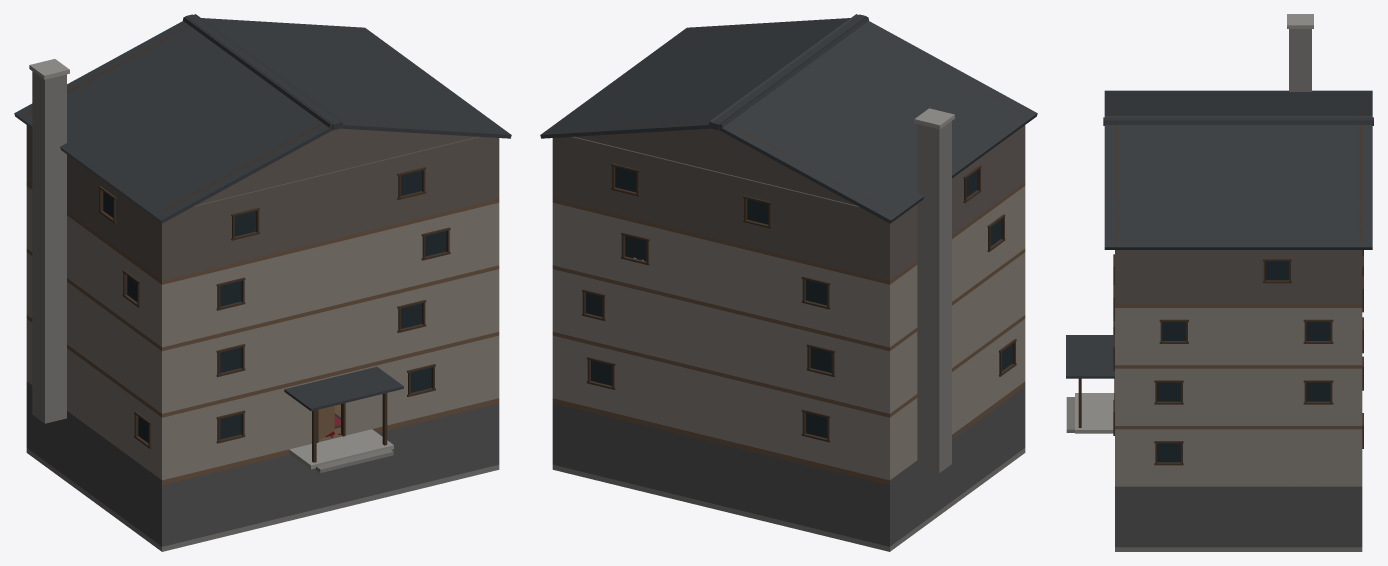
The model's file is Whi_Interior.glb.
3 views of the same model, side by side, from view 1: azimuth 30°, elevation 25°; view 2: azimuth 150°, elevation 25°; view 3: azimuth 270°, elevation 25° (orthographic). The views are drawn at different scales.
Parts seen in each view (by area): view 1: WHI_Roof_W, WHI_Base_S_01, WHI_Roof_E, WHI_Chimney, WHI_Ext_S_F2_04, WHI_Ext_S_F1_04, WHI_Ext_S_F3_04, WHI_Base_W_01, WHI_Ext_W_F1_01, WHI_Gable_S, WHI_Ext_S_F3_07, WHI_Ext_S_F1_07 (+30 smaller); view 2: WHI_Roof_W, WHI_Base_N_01, WHI_Roof_E, WHI_Ext_N_F1_04, WHI_Ext_N_G_04, WHI_Chimney, WHI_Ext_N_F2_04, WHI_Ext_N_F3_01, WHI_Base_W_01, WHI_Ext_N_F3_04, WHI_Ext_W_F1_01, WHI_Gable_N (+26 smaller); view 3: WHI_Roof_E, WHI_Base_E_01, WHI_Ext_E_G_04, WHI_Ext_E_F3_01, WHI_Roof_W, WHI_Ext_E_F1_04, WHI_Ext_E_F2_04, WHI_Ext_E_F3_04, WHI_Ext_E_F2_01, WHI_Ext_E_G_01, WHI_Ext_E_F1_01, WHI_Porch_Roof (+23 smaller).
Boxes of the visible parts, <box> form: WHI_Roof_W: <box>14,14,342,223</box>; WHI_Base_S_01: <box>160,403,499,546</box>; WHI_Roof_E: <box>183,17,511,138</box>; WHI_Chimney: <box>32,71,66,423</box>; WHI_Ext_S_F2_04: <box>242,221,423,327</box>; WHI_Ext_S_F1_04: <box>242,293,398,393</box>; WHI_Ext_S_F3_04: <box>257,156,398,257</box>; WHI_Base_W_01: <box>28,383,160,544</box>; WHI_Ext_W_F1_01: <box>28,253,160,412</box>; WHI_Gable_S: <box>195,128,476,205</box>; WHI_Ext_S_F3_07: <box>423,136,499,216</box>; WHI_Ext_S_F1_07: <box>423,269,499,349</box>; WHI_Roof_W: <box>709,14,1037,223</box>; WHI_Base_N_01: <box>552,403,891,546</box>; WHI_Roof_E: <box>540,17,868,138</box>; WHI_Ext_N_F1_04: <box>604,281,809,393</box>; WHI_Ext_N_G_04: <box>614,350,804,459</box>; WHI_Chimney: <box>917,121,951,473</box>; WHI_Ext_N_F2_04: <box>648,226,804,326</box>; WHI_Ext_N_F3_01: <box>770,185,891,280</box>; WHI_Base_W_01: <box>891,388,1023,544</box>; WHI_Ext_N_F3_04: <box>638,152,746,245</box>; WHI_Ext_W_F1_01: <box>891,253,1023,412</box>; WHI_Gable_N: <box>575,128,856,205</box>; WHI_Roof_E: <box>1104,116,1372,249</box>; WHI_Base_E_01: <box>1118,486,1359,547</box>; WHI_Ext_E_G_04: <box>1182,429,1359,486</box>; WHI_Ext_E_F3_01: <box>1118,250,1264,304</box>; WHI_Roof_W: <box>1104,90,1372,124</box>; WHI_Ext_E_F1_04: <box>1182,368,1305,425</box>; WHI_Ext_E_F2_04: <box>1187,308,1305,365</box>; WHI_Ext_E_F3_04: <box>1290,250,1359,304</box>; WHI_Ext_E_F2_01: <box>1118,308,1161,365</box>; WHI_Ext_E_G_01: <box>1118,429,1156,486</box>; WHI_Ext_E_F1_01: <box>1118,368,1156,425</box>; WHI_Porch_Roof: <box>1066,335,1114,378</box>.
Size of the model in its own units: 15.06 by 16.24 by 11.95.
